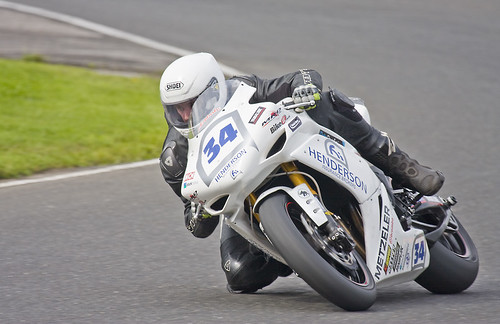helmet: (152, 52, 224, 122)
